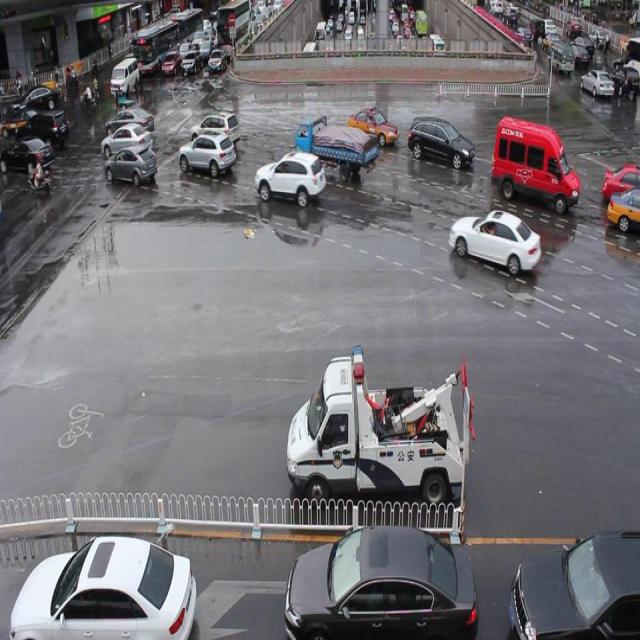bus: (287, 338, 475, 506), (297, 115, 375, 182)
car: (286, 524, 476, 640), (12, 533, 195, 640), (508, 527, 640, 640), (451, 212, 538, 274), (256, 150, 324, 207), (410, 111, 474, 166), (179, 130, 235, 176), (105, 146, 157, 185), (348, 105, 399, 143), (190, 112, 239, 150), (601, 158, 640, 198), (604, 186, 640, 228)
truck: (491, 114, 579, 208)
